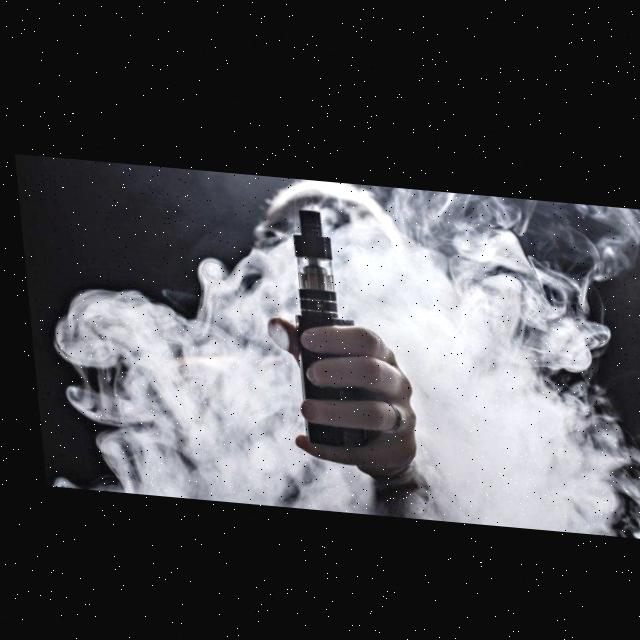vape: (280, 201, 358, 444)
